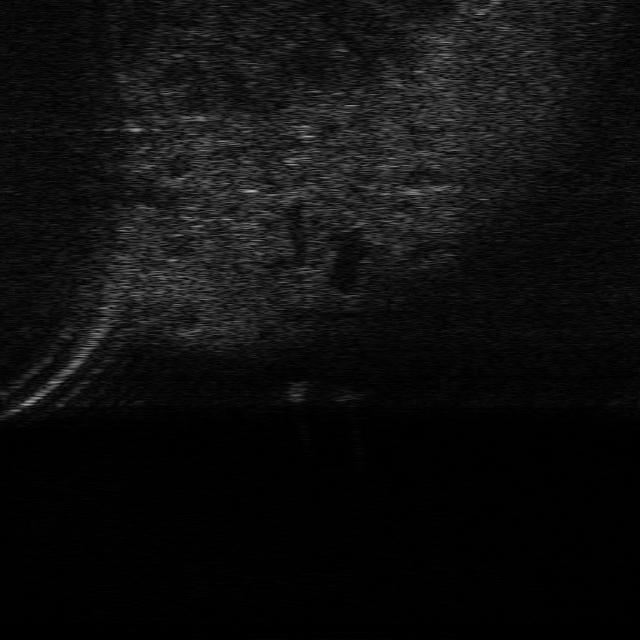cube: (328, 379, 368, 402)
cylinder: (285, 380, 313, 404)
